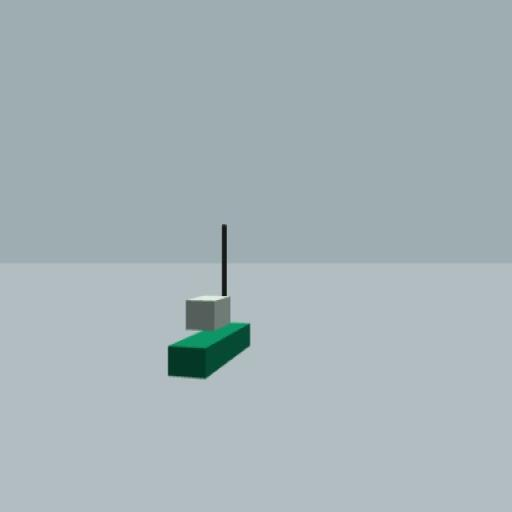fishing_boat: (168, 222, 252, 381)
